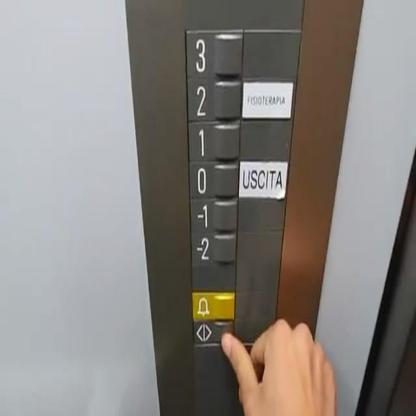-1: (188, 192, 240, 235)
-2: (189, 226, 239, 265)
0: (186, 156, 241, 202)
1: (185, 116, 242, 164)
2: (184, 72, 244, 124)
3: (183, 25, 244, 81)
alarm: (190, 287, 238, 324)
open: (191, 317, 236, 348)
